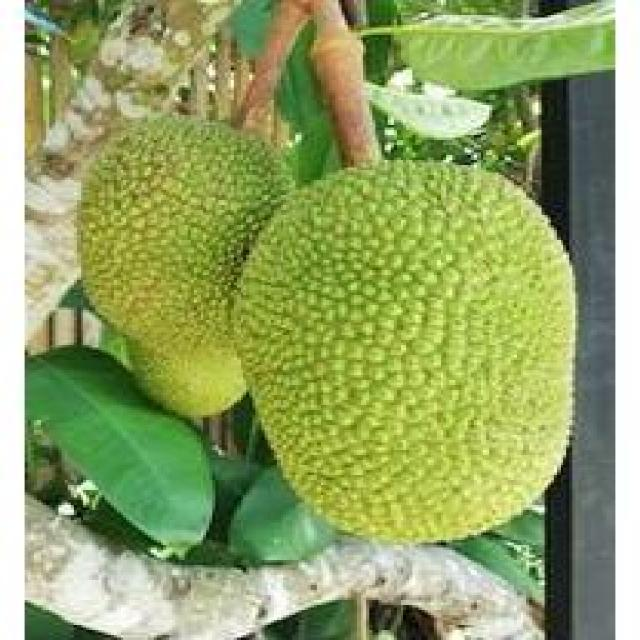Fruit: (216, 130, 610, 500)
